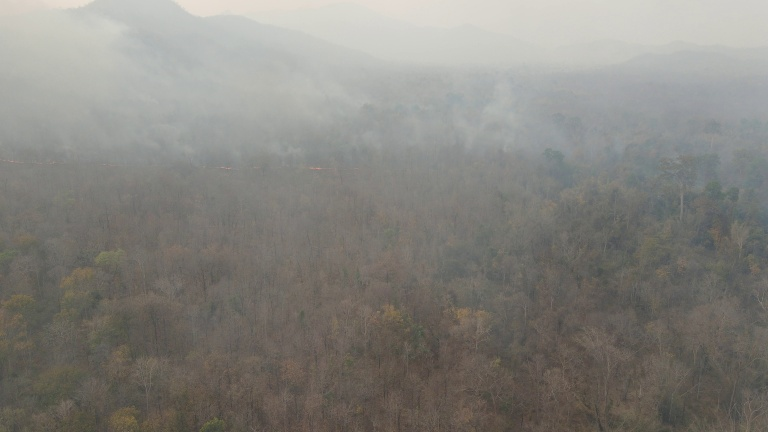fire: (1, 151, 388, 176)
smoke: (1, 1, 768, 160)
